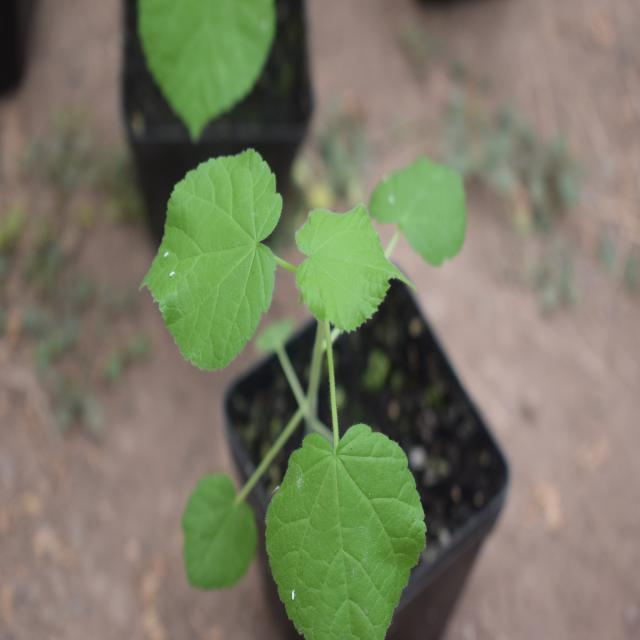abutilon theophrasti: (128, 128, 469, 626)
